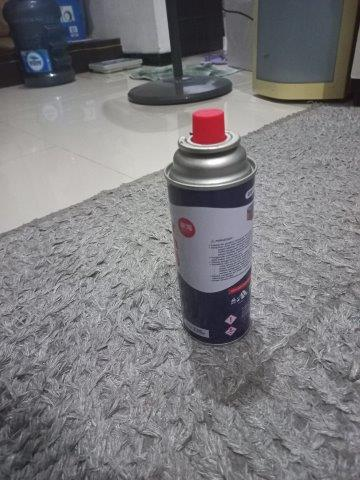kaleng: (163, 108, 258, 348)
